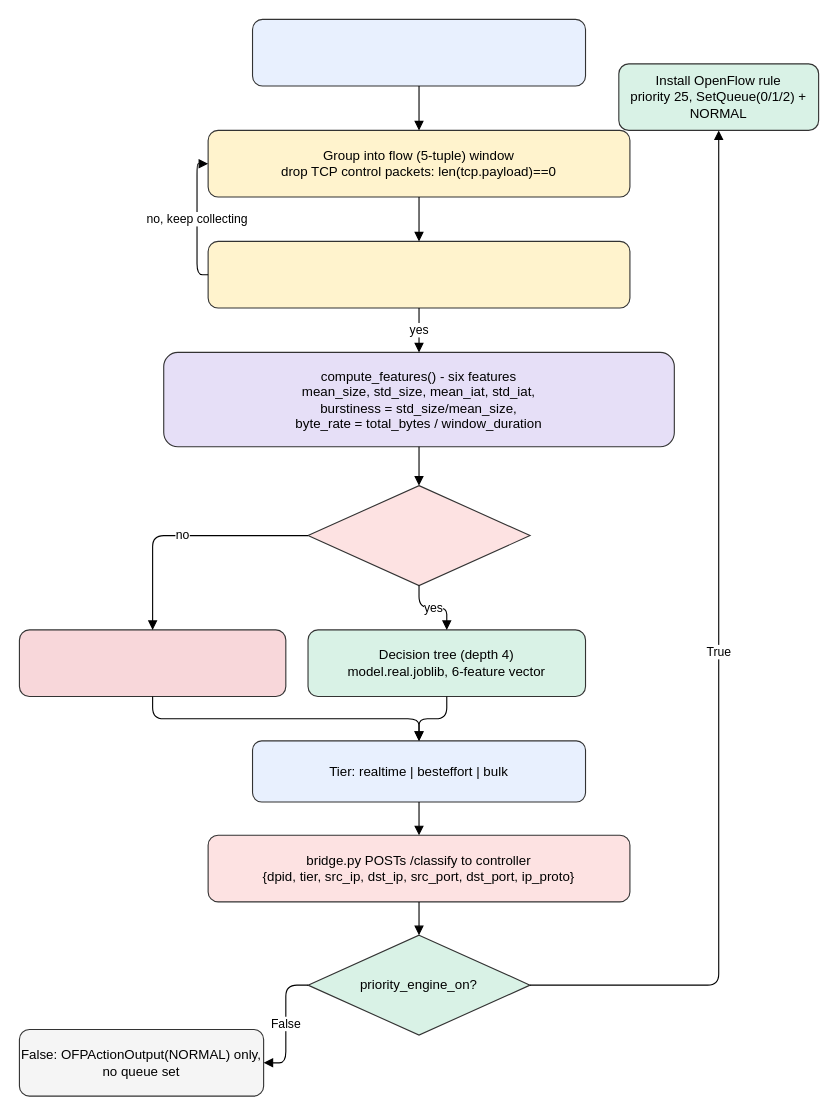
Some shapes in this 838 by 1116 pixel diagram are drawn without their labels. The shapes that lost their labels are listed below. From the top down, each one's centre as x and y in pixels, then its label:
point 418,52: Packet arrives on s1-eth1/2/3 NIC offloads (TSO/GSO/GRO) must be off
point 418,274: Window of 20 packets reached? timestamps use float(pkt.time), not time.time()
point 418,535: Trained model loaded?
point 152,663: Rule-based fallback mean_size/burstiness/mean_iat thresholds
